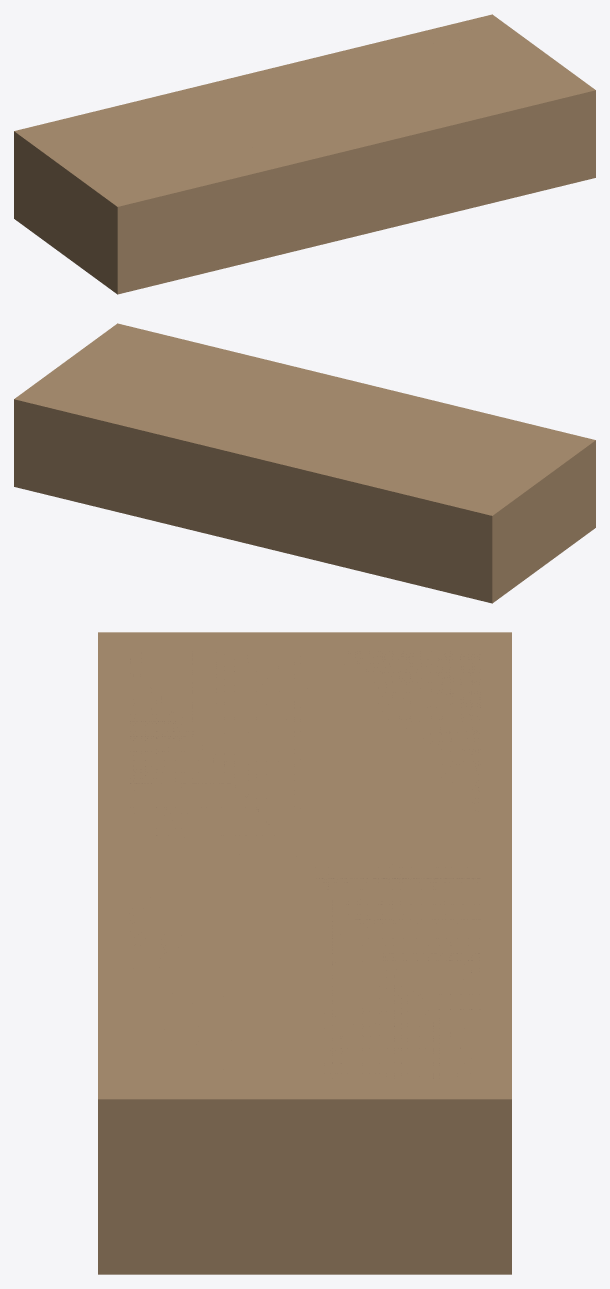
File: raised_bed.glb
The picture shows the model from 3 angles, top to bottom: view 1: azimuth 30°, elevation 25°; view 2: azimuth 150°, elevation 25°; view 3: azimuth 270°, elevation 25°; orthographic projection. The views are drawn at different scales.
Parts seen in each view (by area): view 1: RaisedBed.003; view 2: RaisedBed.003; view 3: RaisedBed.003.
Part boxes in pixels (bbox=[...]): RaisedBed.003: bbox=[14, 14, 595, 294]; RaisedBed.003: bbox=[14, 323, 595, 603]; RaisedBed.003: bbox=[98, 632, 511, 1274].
Bounding box in the file's own units: 1.6 × 0.28 × 0.6.
